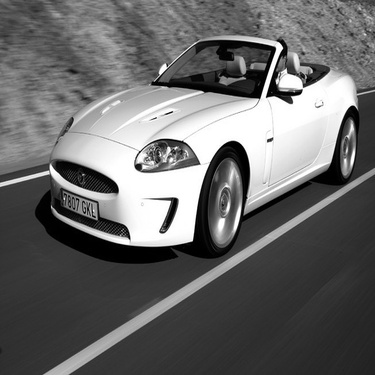car: (21, 21, 362, 261)
